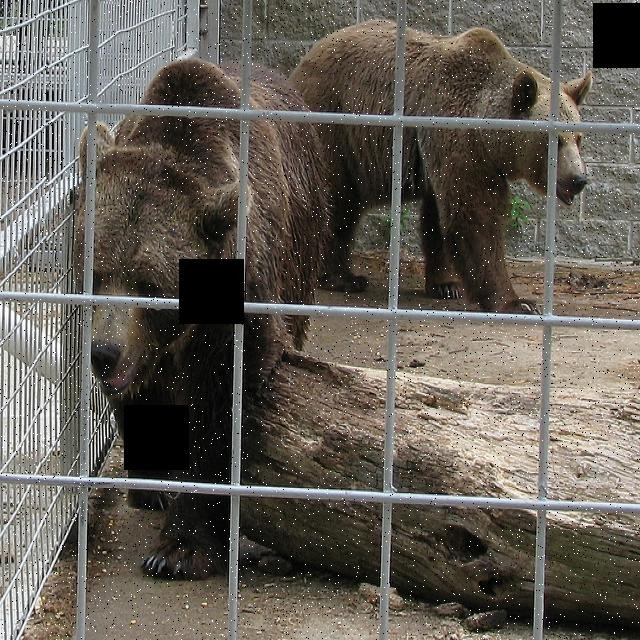Bear: (72, 51, 327, 588), (284, 13, 592, 324)
